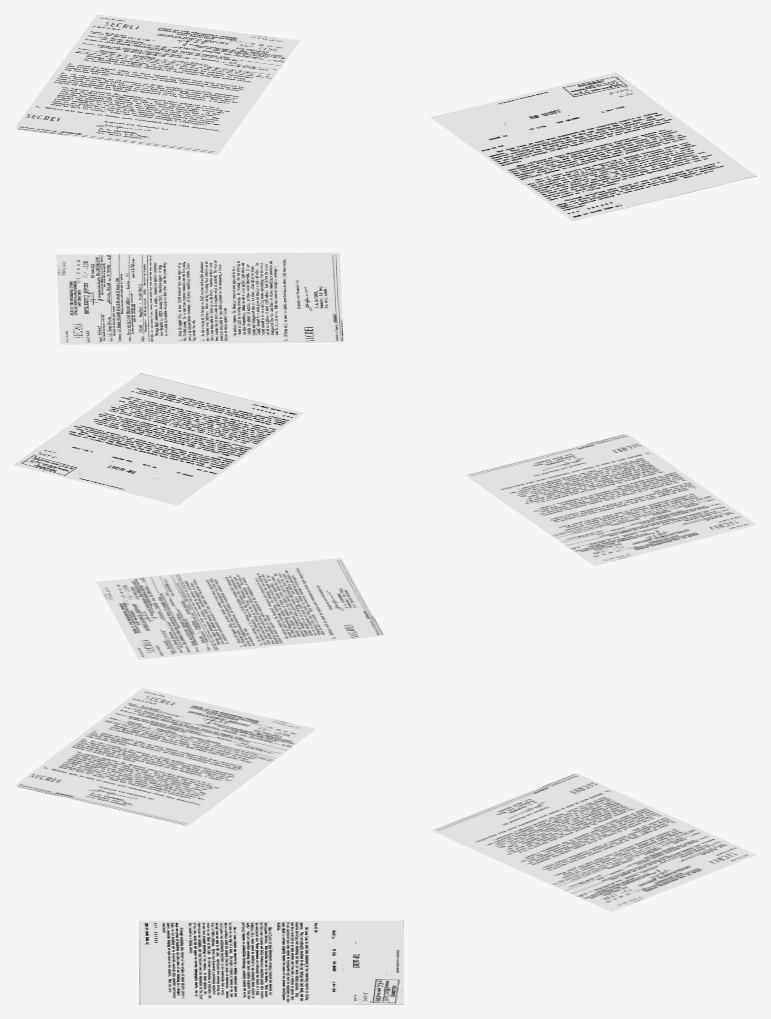
The model's file is bladeren.fbx.
3 views of the same model, one above another, from view 1: azimuth 30°, elevation 25°; view 2: azimuth 150°, elevation 25°; view 3: azimuth 270°, elevation 25° (orthographic). The views are drawn at different scales.
Parts seen in each view (by area): view 1: pPlane5, pPlane1, pPlane2; view 2: pPlane2, pPlane5, pPlane1; view 3: pPlane1, pPlane2, pPlane5.
Boxes of the visible parts, x1,y1,x2,y2 form: pPlane5: (56,252,343,344); pPlane1: (431,72,756,220); pPlane2: (14,14,300,155); pPlane2: (96,558,383,659); pPlane5: (465,433,756,566); pPlane1: (14,373,303,505); pPlane1: (139,920,403,1004); pPlane2: (431,773,756,911); pPlane5: (14,688,315,826).
Bounding box in the file's own units: 1.9 × 4.77e-15 × 1.88.
Materials: 2 (2 with a texture image).
